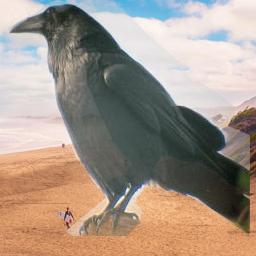Crow: (8, 2, 250, 237)
